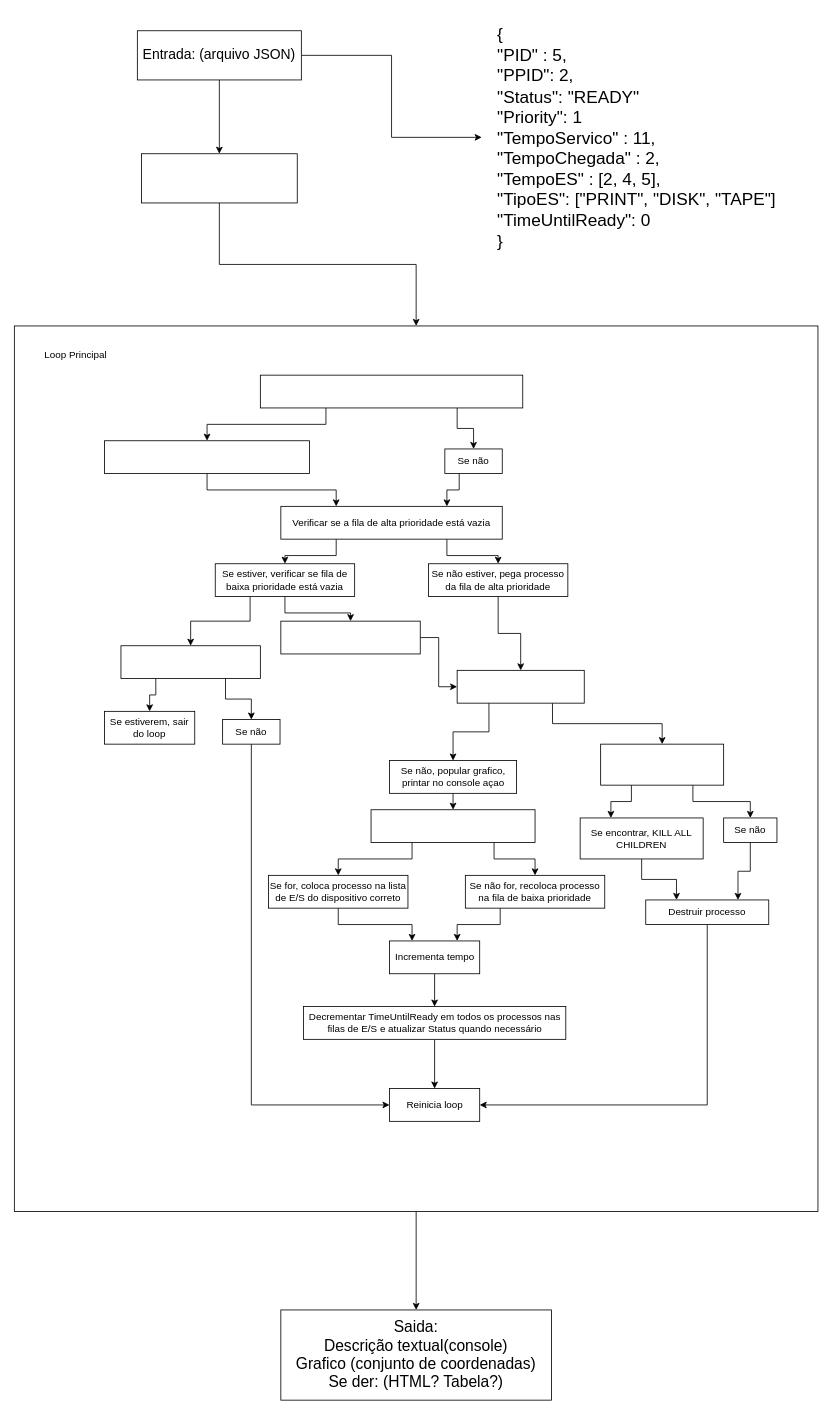
This 832x1415 diagram has some shape labels left out. Each missing label, with the box of its shape:
Interpretar JSON, popular filas de prioridade: (141, 153, 297, 203)
Se estiver, verificar se filas de E/S estão vazias: (120, 645, 260, 679)
Se não estiver, pega processo da fila de baixa prioridade: (280, 620, 420, 654)
Se sim, colocar na fila adequada de acordo com a sua prioridade: (104, 440, 310, 474)
Se sim, procurar filhos do processo nas filas: (600, 743, 724, 785)
Verifica se processo acabou: (456, 670, 584, 703)
Verificar se algum processo READY nas filas de E/S: (260, 374, 523, 408)
Verificar se instrução é de E/S: (370, 809, 535, 843)
